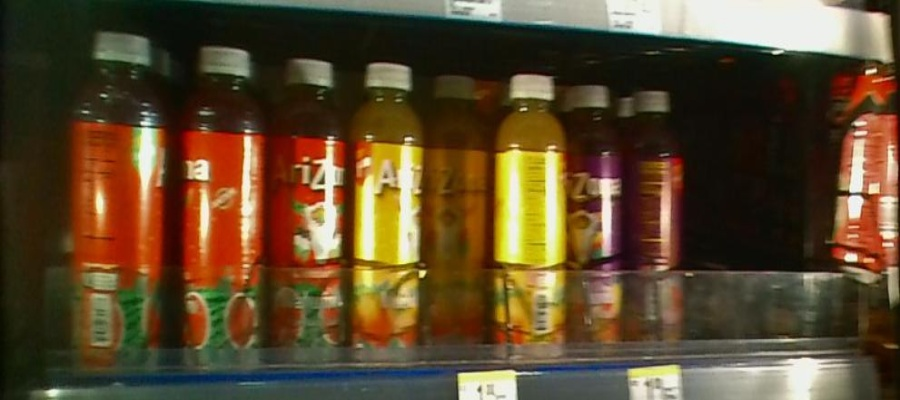bottle: (63, 20, 170, 385), (174, 17, 270, 378), (272, 45, 351, 380), (352, 39, 426, 378), (495, 64, 569, 369), (425, 64, 497, 376), (569, 69, 628, 366), (630, 76, 684, 358)
